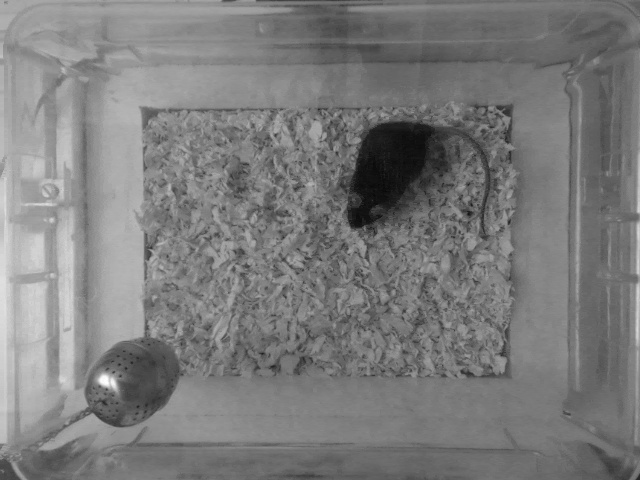mice: (336, 116, 500, 240)
